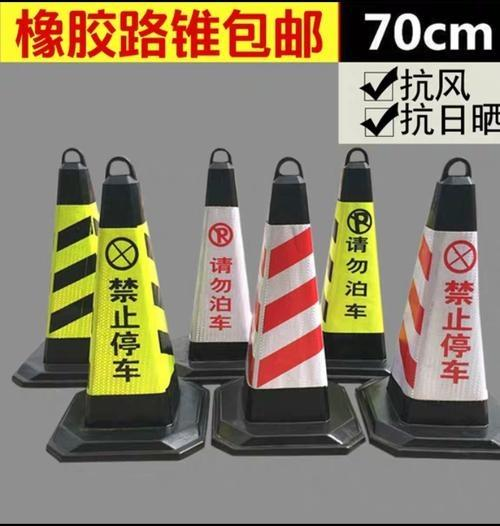cone_barrel: (64, 160, 192, 445), (230, 165, 345, 446), (388, 161, 499, 438), (21, 156, 108, 381), (315, 158, 394, 379), (180, 153, 255, 361)
